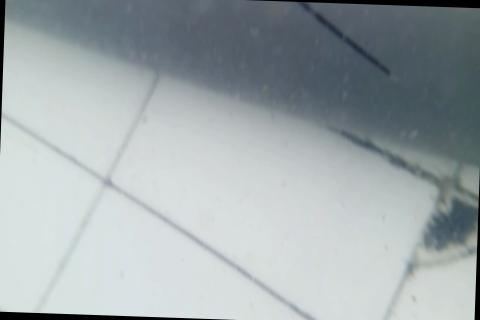keretakan: (297, 2, 395, 71)
